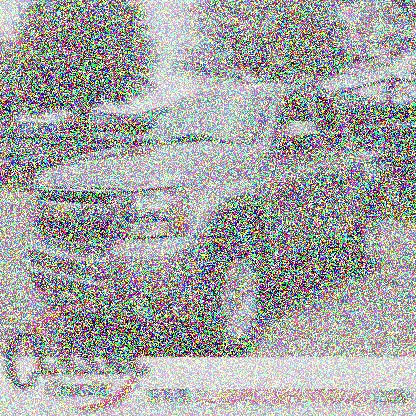Vehicle: (27, 82, 390, 356)
